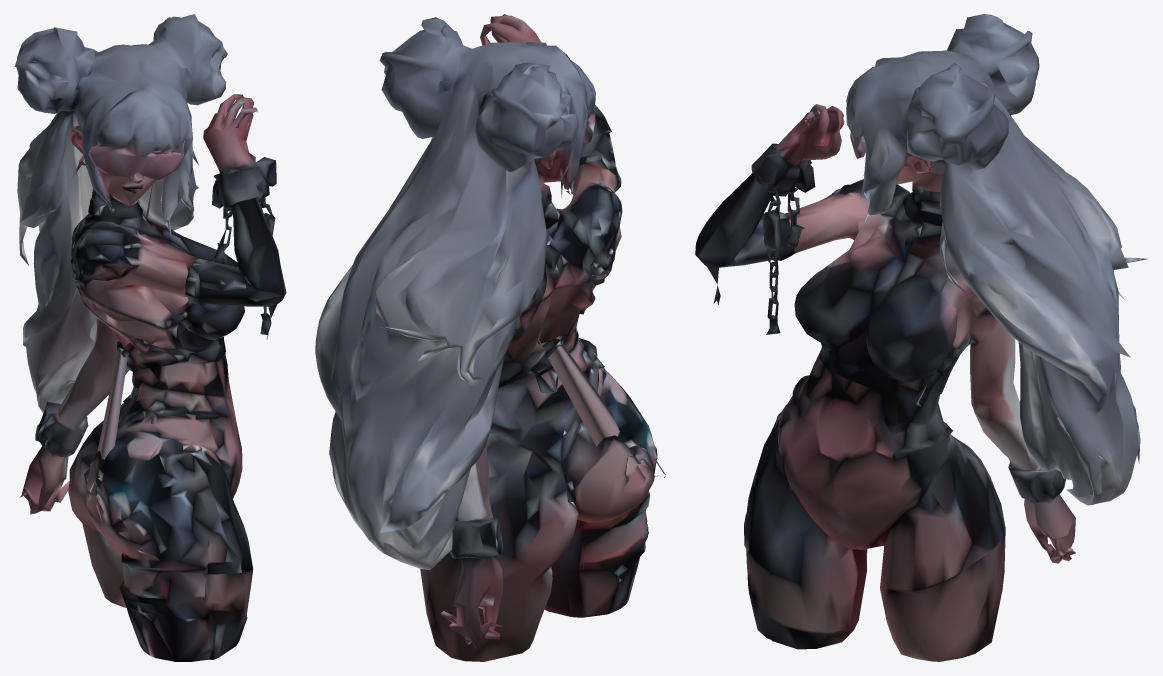
File: 01a19d7b-7d8c-75e0-afb2-5a6c20423526.glb
3 views of the same model, side by side, from view 1: azimuth 30°, elevation 25°; view 2: azimuth 150°, elevation 25°; view 3: azimuth 270°, elevation 25° (orthographic). The views are drawn at different scales.
Parts seen in each view (by area): view 1: model; view 2: model; view 3: model.
Part boxes in pixels (x1,y1,x2,y2): model: [14, 14, 286, 661]; model: [315, 14, 665, 661]; model: [695, 14, 1147, 661].
Size of the model in its own units: 0.6976 by 1.89 by 1.31.
